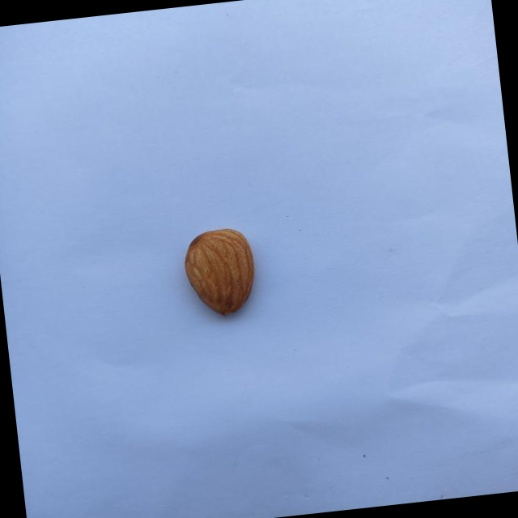grade1: (176, 220, 268, 327)
